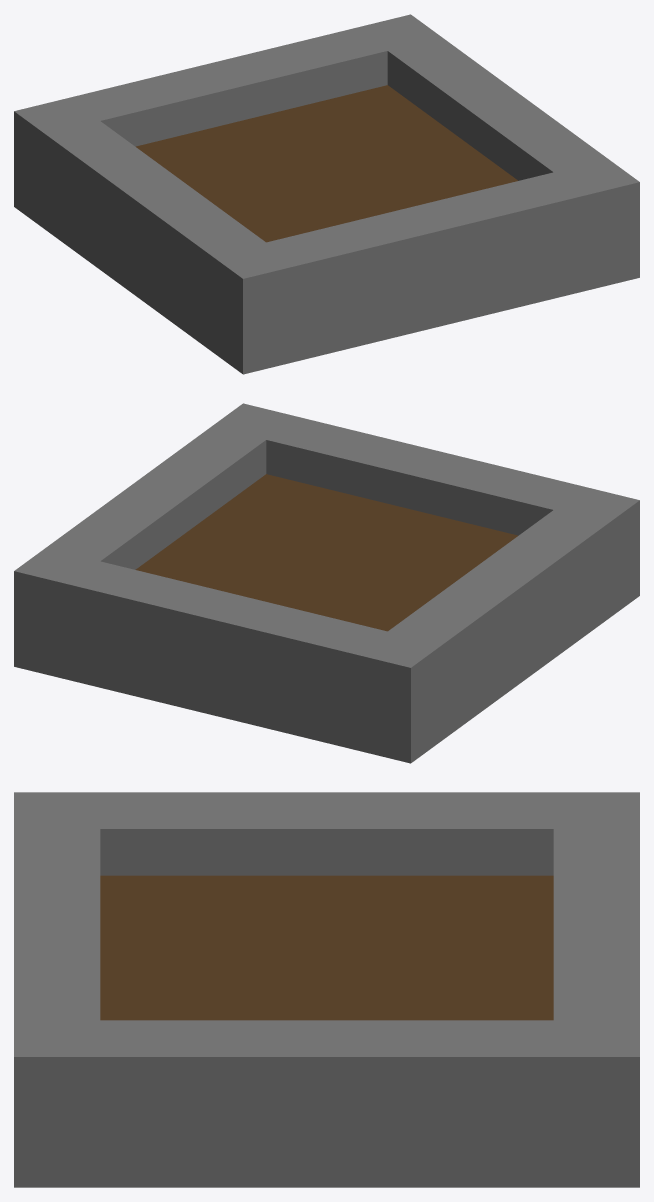
The model's file is FlowerBed_01.glb.
3 renders of one model, top to bottom at view 1: azimuth 30°, elevation 25°; view 2: azimuth 150°, elevation 25°; view 3: azimuth 270°, elevation 25°, orthographic. The views are drawn at different scales.
Visible parts, largest first — view 1: FlowerBed_01; view 2: FlowerBed_01; view 3: FlowerBed_01.
Part boxes in pixels (x1,y1,x2,y2): FlowerBed_01: [14, 14, 639, 374]; FlowerBed_01: [14, 403, 639, 763]; FlowerBed_01: [14, 792, 639, 1187].
Bounding box in the file's own units: 0.6363 × 0.1465 × 0.6363.
1 material, 1 textured.
